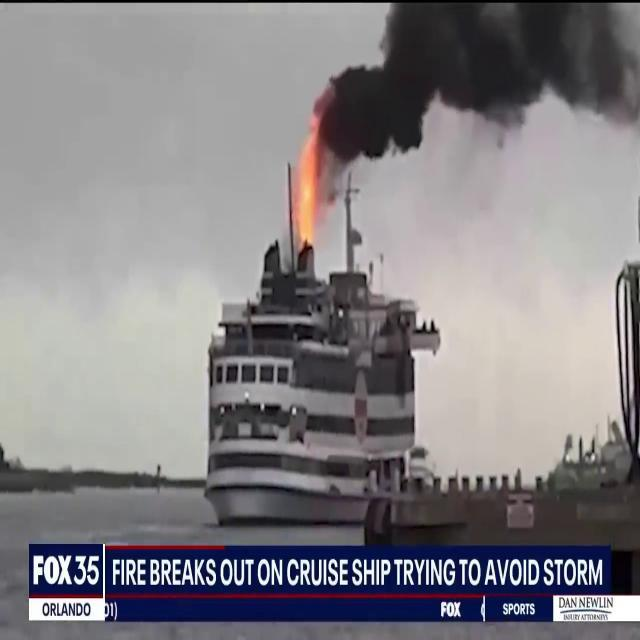Fire: (288, 114, 325, 258)
Smoke: (319, 1, 640, 210)
